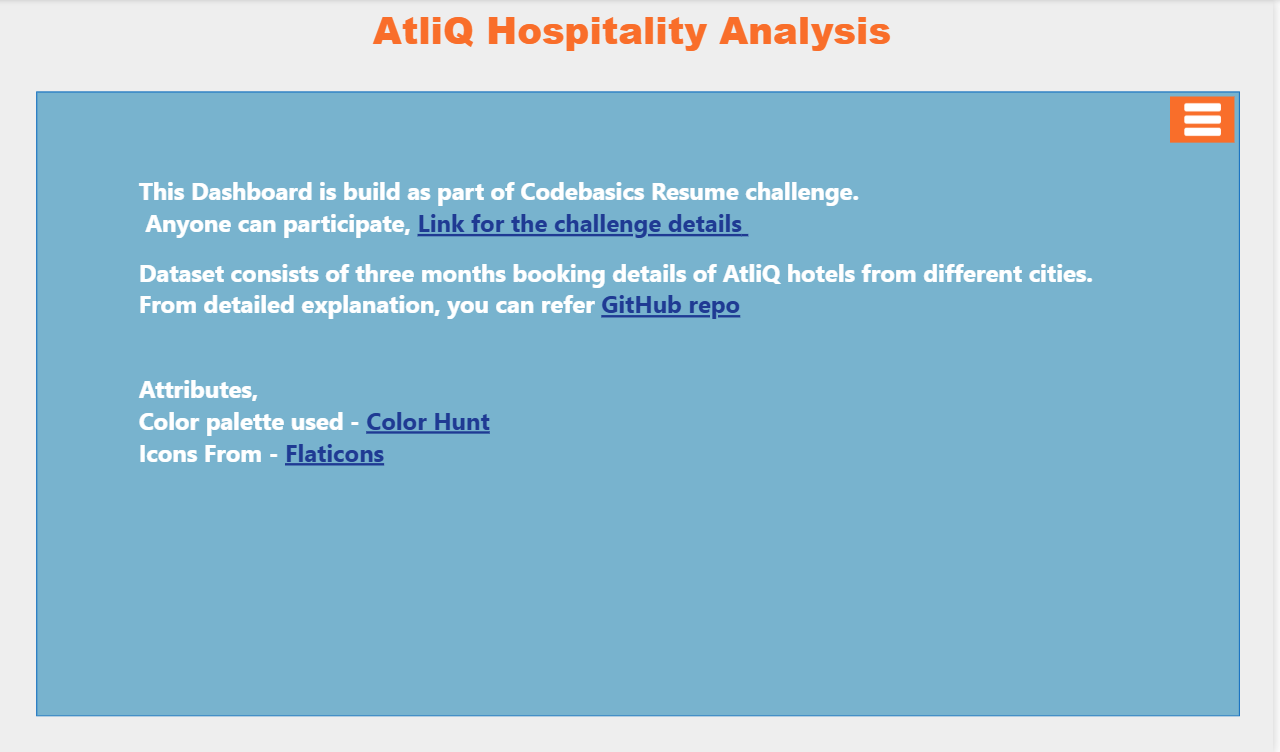

Layout of this report page (visuals, bound fields, positions):
{"tool":"powerbi","page":{"name":"Info","canvas":[1280,760],"ordinal":2},"visuals":[{"type":"shape","box":[36.7,93.3,1210,628.3],"z":0},{"type":"textbox","box":[1.9,0,1278.1,65.6],"z":2000},{"type":"image","title":"three dot menu","box":[1176.7,98.3,65,46.7],"z":3000},{"type":"textbox","box":[135,171.7,1011.7,441.7],"z":4000}]}

Visuals, with their boxes in screenshot pixels (x1, y1, x2, y2), scaled from the page's 1280x760 canvas onto the 1280x752 screenshot:
shape: 37,92,1247,714
textbox: 2,0,1279,65
"three dot menu" image: 1177,97,1242,143
textbox: 135,170,1147,607
